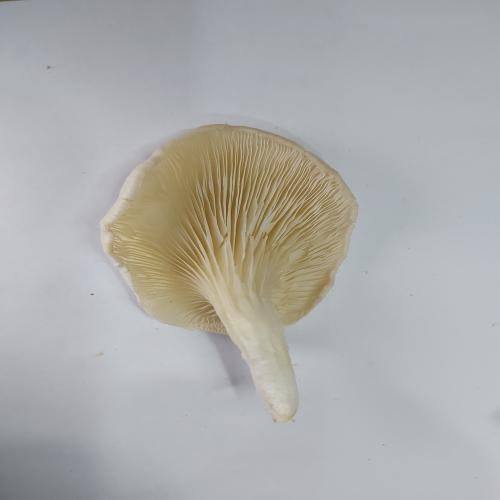Oyster Mushroom: (98, 122, 359, 423)
